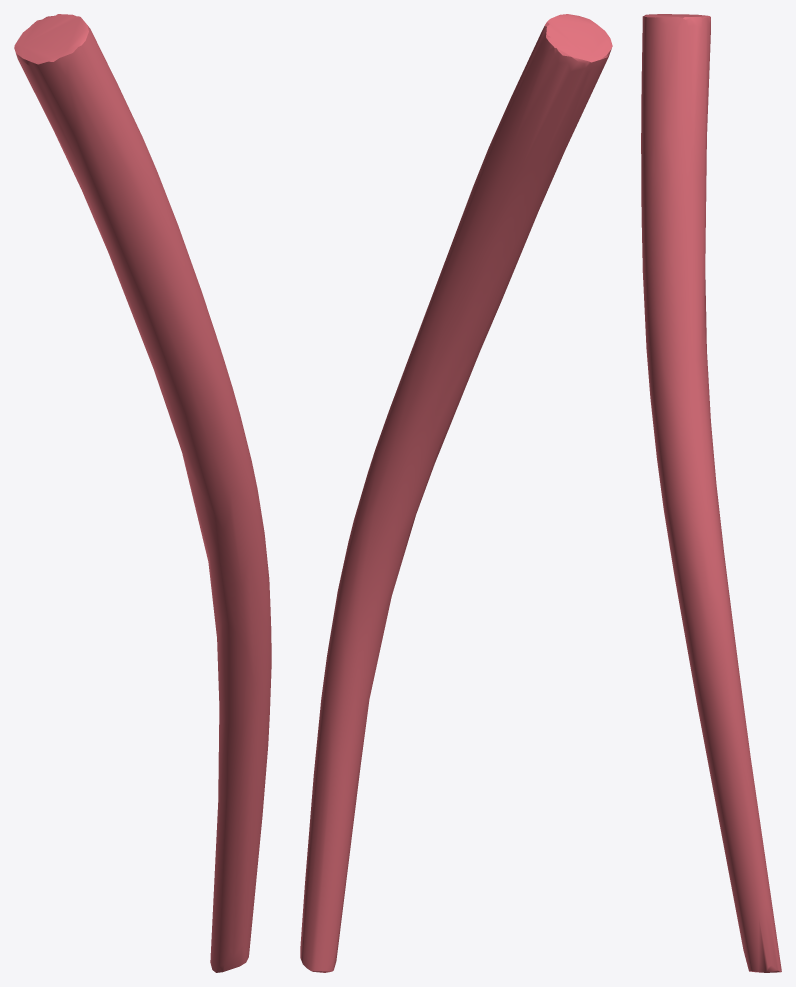
Rendered from fma8646_fj2922.glb.
3 views of the same model, side by side, from view 1: azimuth 30°, elevation 25°; view 2: azimuth 150°, elevation 25°; view 3: azimuth 270°, elevation 25° (orthographic). The views are drawn at different scales.
Visible parts, largest first — view 1: FMA8646_FJ2922; view 2: FMA8646_FJ2922; view 3: FMA8646_FJ2922.
Part boxes in pixels (bbox=[...]): FMA8646_FJ2922: bbox=[14, 14, 271, 972]; FMA8646_FJ2922: bbox=[300, 14, 612, 972]; FMA8646_FJ2922: bbox=[641, 14, 781, 972].
Size of the model in its own units: 0.0193 by 0.069 by 0.01.
